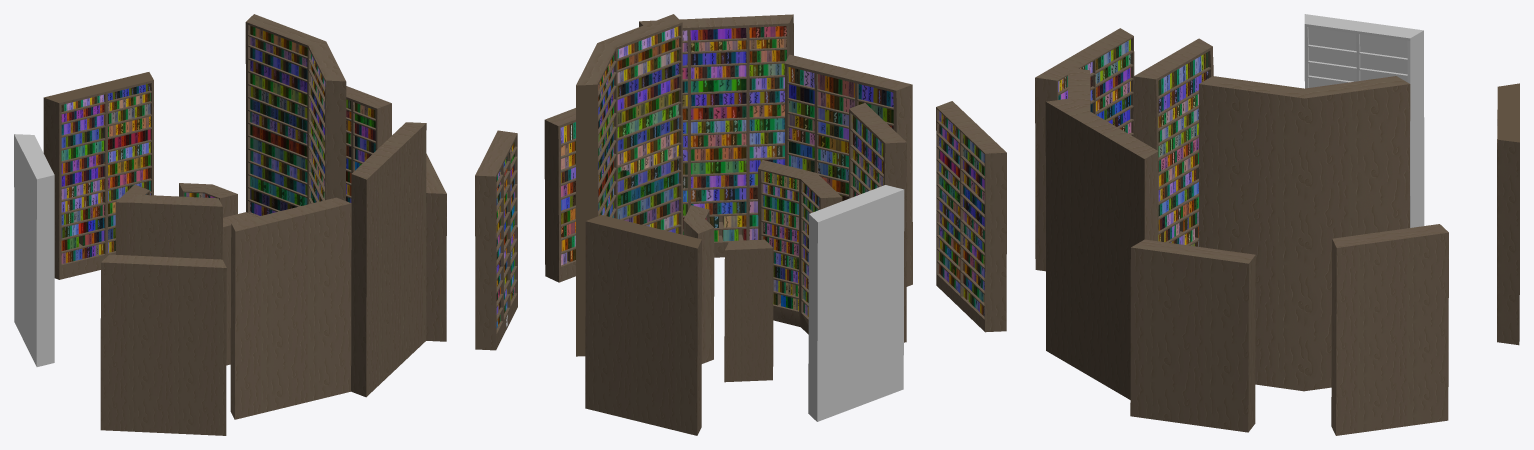
Rendered from F3bookcases.fbx.
The picture shows the model from 3 angles, left to right: view 1: azimuth 30°, elevation 25°; view 2: azimuth 150°, elevation 25°; view 3: azimuth 270°, elevation 25°; orthographic projection. The views are drawn at different scales.
Visible parts, largest first — view 1: 11_1.final, 13_1.final, 12_1.final, 8_1.final, 10_1.final, 9_1.final, 8_2.final, 13_2.final, 13_3.final, 5_1.final, 3_1.final, 4_1.final; view 2: 10_1.final, 8_1.final, 12_1.final, 9_1.final, 13_1.final, 11_1.final, 13_3.final, 5_1.final, 4_1.final, 13_2.final, 8_2.final, 3_1.final; view 3: 8_1.final, 12_1.final, 13_3.final, 13_2.final, 8_2.final, 9_1.final, 13_1.final, 10_1.final, 11_1.final.
Boxes of the visible parts, left/top/right/bottom form: 11_1.final: left=230, top=197, right=351, bottom=419; 13_1.final: left=100, top=254, right=226, bottom=435; 12_1.final: left=351, top=122, right=426, bottom=397; 8_1.final: left=245, top=14, right=346, bottom=216; 10_1.final: left=43, top=72, right=153, bottom=279; 9_1.final: left=14, top=134, right=54, bottom=366; 8_2.final: left=126, top=194, right=222, bottom=259; 13_2.final: left=426, top=153, right=446, bottom=341; 13_3.final: left=346, top=86, right=391, bottom=202; 5_1.final: left=222, top=212, right=257, bottom=365; 3_1.final: left=179, top=183, right=237, bottom=217; 4_1.final: left=115, top=184, right=149, bottom=255; 10_1.final: left=585, top=215, right=701, bottom=435; 8_1.final: left=576, top=14, right=682, bottom=356; 12_1.final: left=639, top=14, right=793, bottom=257; 9_1.final: left=808, top=185, right=904, bottom=421; 13_1.final: left=936, top=101, right=1006, bottom=332; 11_1.final: left=784, top=54, right=912, bottom=286; 13_3.final: left=475, top=130, right=517, bottom=350; 5_1.final: left=758, top=160, right=842, bottom=334; 4_1.final: left=724, top=239, right=773, bottom=382; 13_2.final: left=544, top=108, right=575, bottom=282; 8_2.final: left=849, top=103, right=906, bottom=342; 3_1.final: left=683, top=205, right=714, bottom=363; 8_1.final: left=1198, top=76, right=1410, bottom=391; 12_1.final: left=1045, top=98, right=1158, bottom=399; 13_3.final: left=1331, top=224, right=1448, bottom=435; 13_2.final: left=1130, top=239, right=1255, bottom=432; 8_2.final: left=1133, top=38, right=1213, bottom=246; 9_1.final: left=1304, top=14, right=1424, bottom=227; 13_1.final: left=1035, top=28, right=1134, bottom=271; 10_1.final: left=1497, top=83, right=1519, bottom=345; 11_1.final: left=1068, top=67, right=1090, bottom=111.
Bounding box in the file's own units: 3450 × 2186 × 3280.
